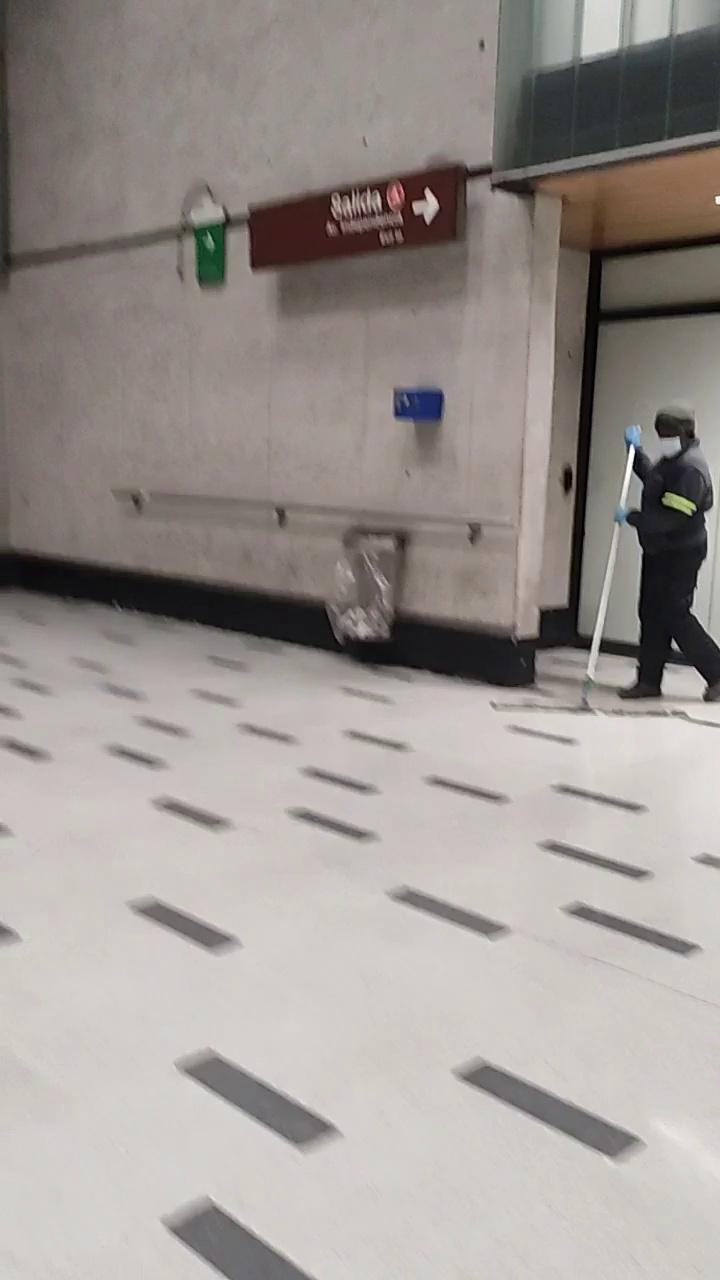right arrow: (406, 188, 444, 235)
